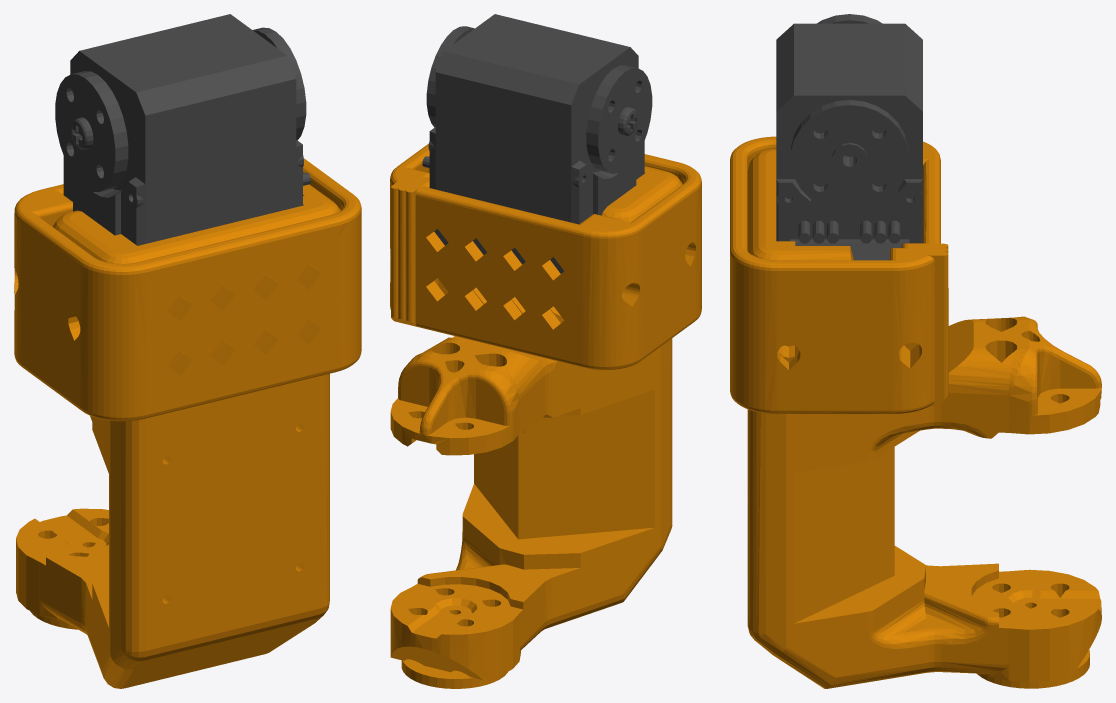
The model's file is Rotation_Pitch.glb.
3 views of the same model, side by side, from view 1: azimuth 30°, elevation 25°; view 2: azimuth 150°, elevation 25°; view 3: azimuth 270°, elevation 25° (orthographic). The views are drawn at different scales.
Visible parts, largest first — view 1: Rotation_Pitch_0, Rotation_Pitch_1; view 2: Rotation_Pitch_0, Rotation_Pitch_1; view 3: Rotation_Pitch_0, Rotation_Pitch_1.
Part boxes in pixels (x1,y1,x2,y2): Rotation_Pitch_0: (14,158,361,688); Rotation_Pitch_1: (55,14,310,245); Rotation_Pitch_0: (390,143,701,688); Rotation_Pitch_1: (422,14,652,273); Rotation_Pitch_0: (730,136,1101,688); Rotation_Pitch_1: (776,14,922,260).
Bounding box in the file's own units: 0.0524 × 0.1127 × 0.0628.
